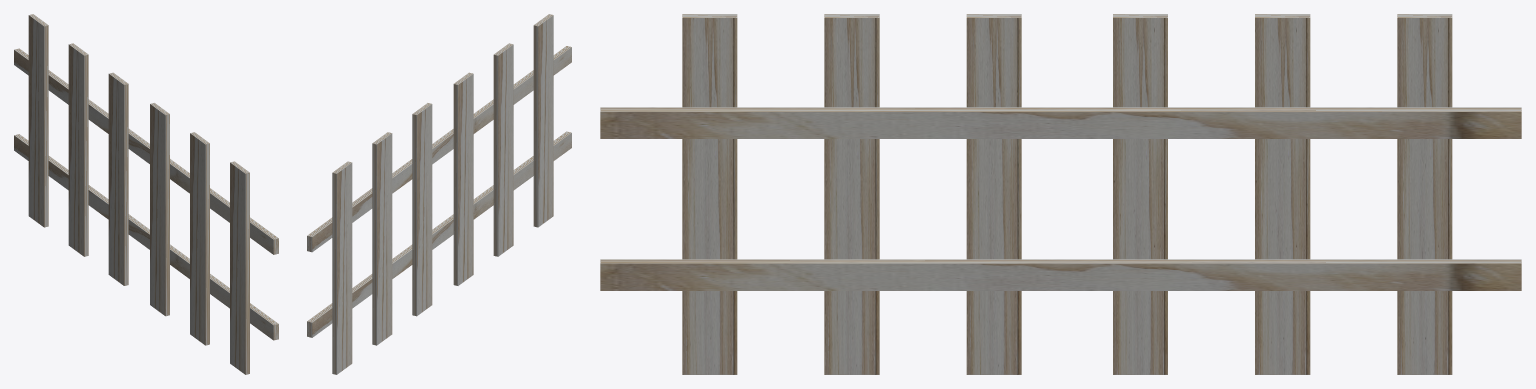
The model's file is Fence.fbx.
The picture shows the model from 3 angles, left to right: view 1: azimuth 30°, elevation 25°; view 2: azimuth 150°, elevation 25°; view 3: azimuth 270°, elevation 25°; orthographic projection. The views are drawn at different scales.
Visible parts, largest first — view 1: pCube9; view 2: pCube9; view 3: pCube9.
Part boxes in pixels (bbox=[...]): pCube9: bbox=[14, 14, 278, 374]; pCube9: bbox=[307, 14, 571, 374]; pCube9: bbox=[600, 14, 1521, 374].
Bounding box in the file's own units: 1.26 × 23.62 × 55.25.
Materials: 1 (1 with a texture image).
